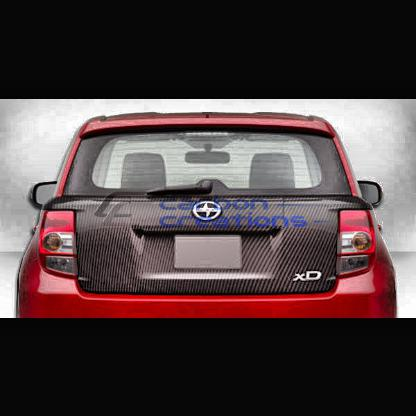Scion xD Hatchback 2012: (17, 114, 399, 319)
